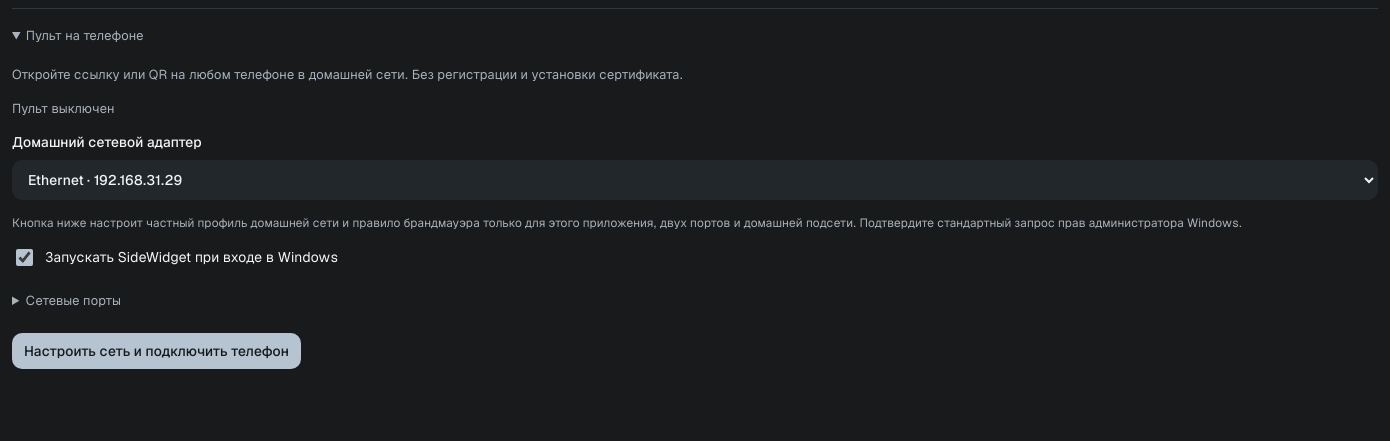
does not show a ready QR after UAC cancellation
Click the button "Настроить сеть и подключить телефон".
click(156, 351)  # box [12,333,301,369]
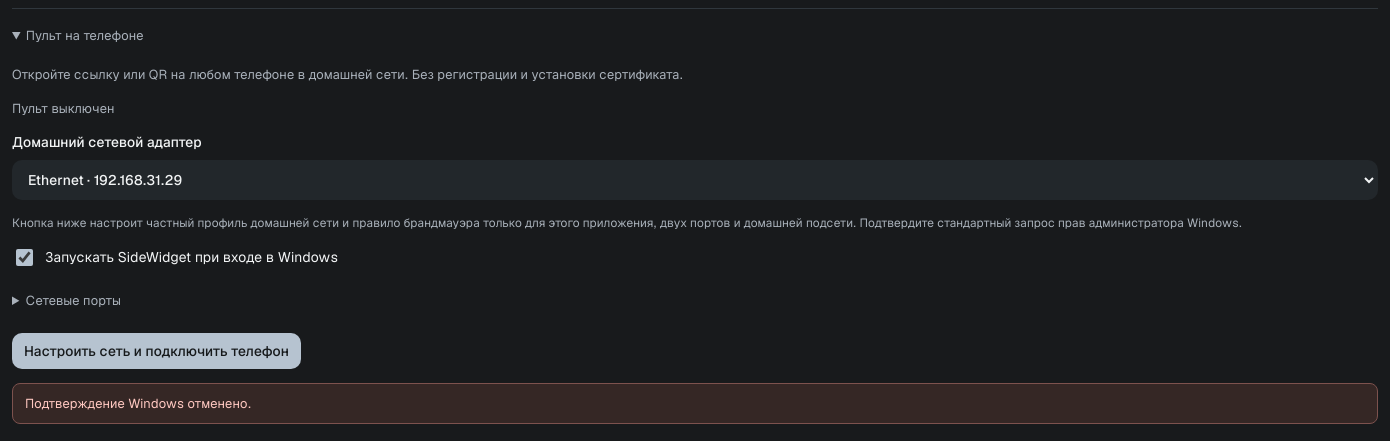
Now the message "Подтверждение Windows отменено." is shown, box [12,383,1378,424]
